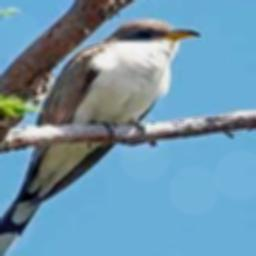Cuckoo: (0, 18, 203, 256)
